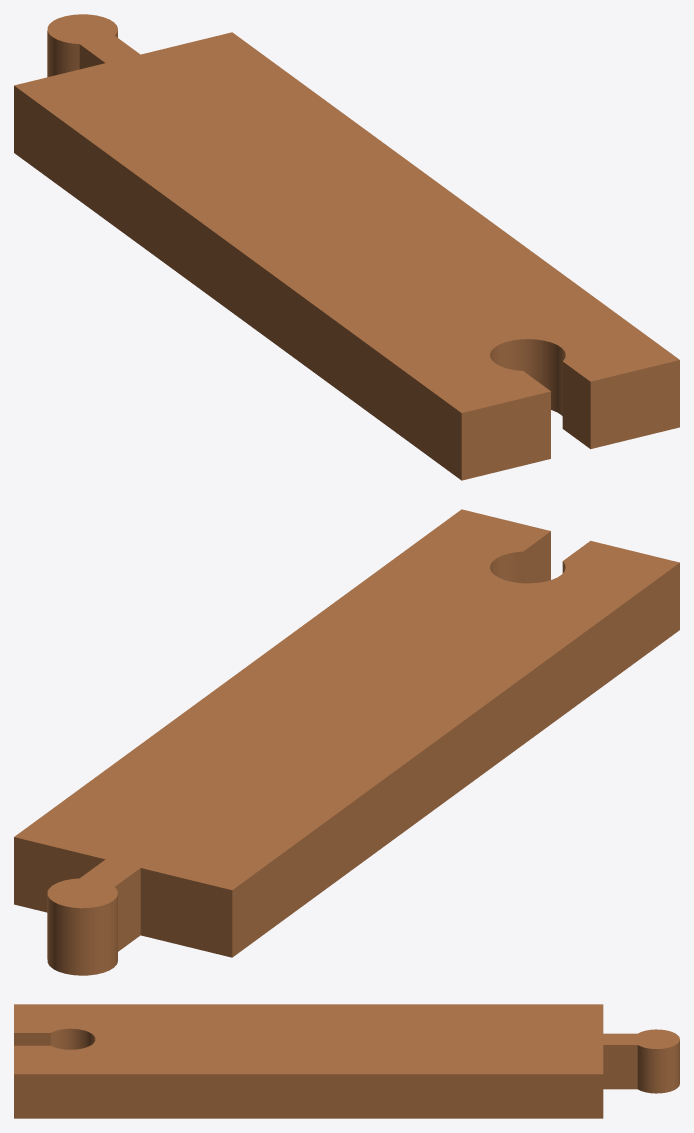
3 views of the same model, one above another, from view 1: azimuth 30°, elevation 25°; view 2: azimuth 150°, elevation 25°; view 3: azimuth 270°, elevation 25° (orthographic). The views are drawn at different scales.
Visible parts, largest first — view 1: connector_bar; view 2: connector_bar; view 3: connector_bar.
Part boxes in pixels (<box>): connector_bar: <box>14,14,679,480</box>; connector_bar: <box>14,509,679,975</box>; connector_bar: <box>14,1004,679,1118</box>.
Size of the model in its own units: 0.0498 by 0.0147 by 0.2001.
